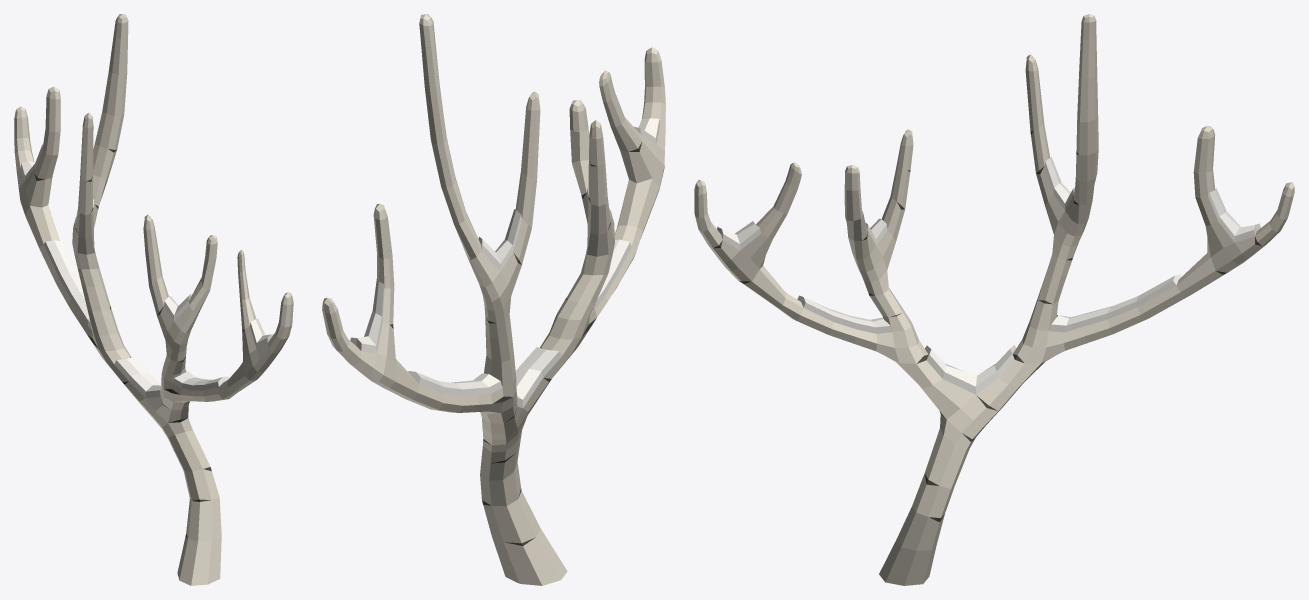
The model's file is BirchTree_Dead_Snow_4.glb.
The picture shows the model from 3 angles, left to right: view 1: azimuth 30°, elevation 25°; view 2: azimuth 150°, elevation 25°; view 3: azimuth 270°, elevation 25°; orthographic projection. The views are drawn at different scales.
Visible parts, largest first — view 1: BirchTree_Dead_Snow_4; view 2: BirchTree_Dead_Snow_4; view 3: BirchTree_Dead_Snow_4.
Part boxes in pixels (<box>): BirchTree_Dead_Snow_4: <box>14,14,293,585</box>; BirchTree_Dead_Snow_4: <box>322,14,665,585</box>; BirchTree_Dead_Snow_4: <box>694,14,1294,585</box>.
Bounding box in the file's own units: 0.4992 × 2.69 × 2.6.
